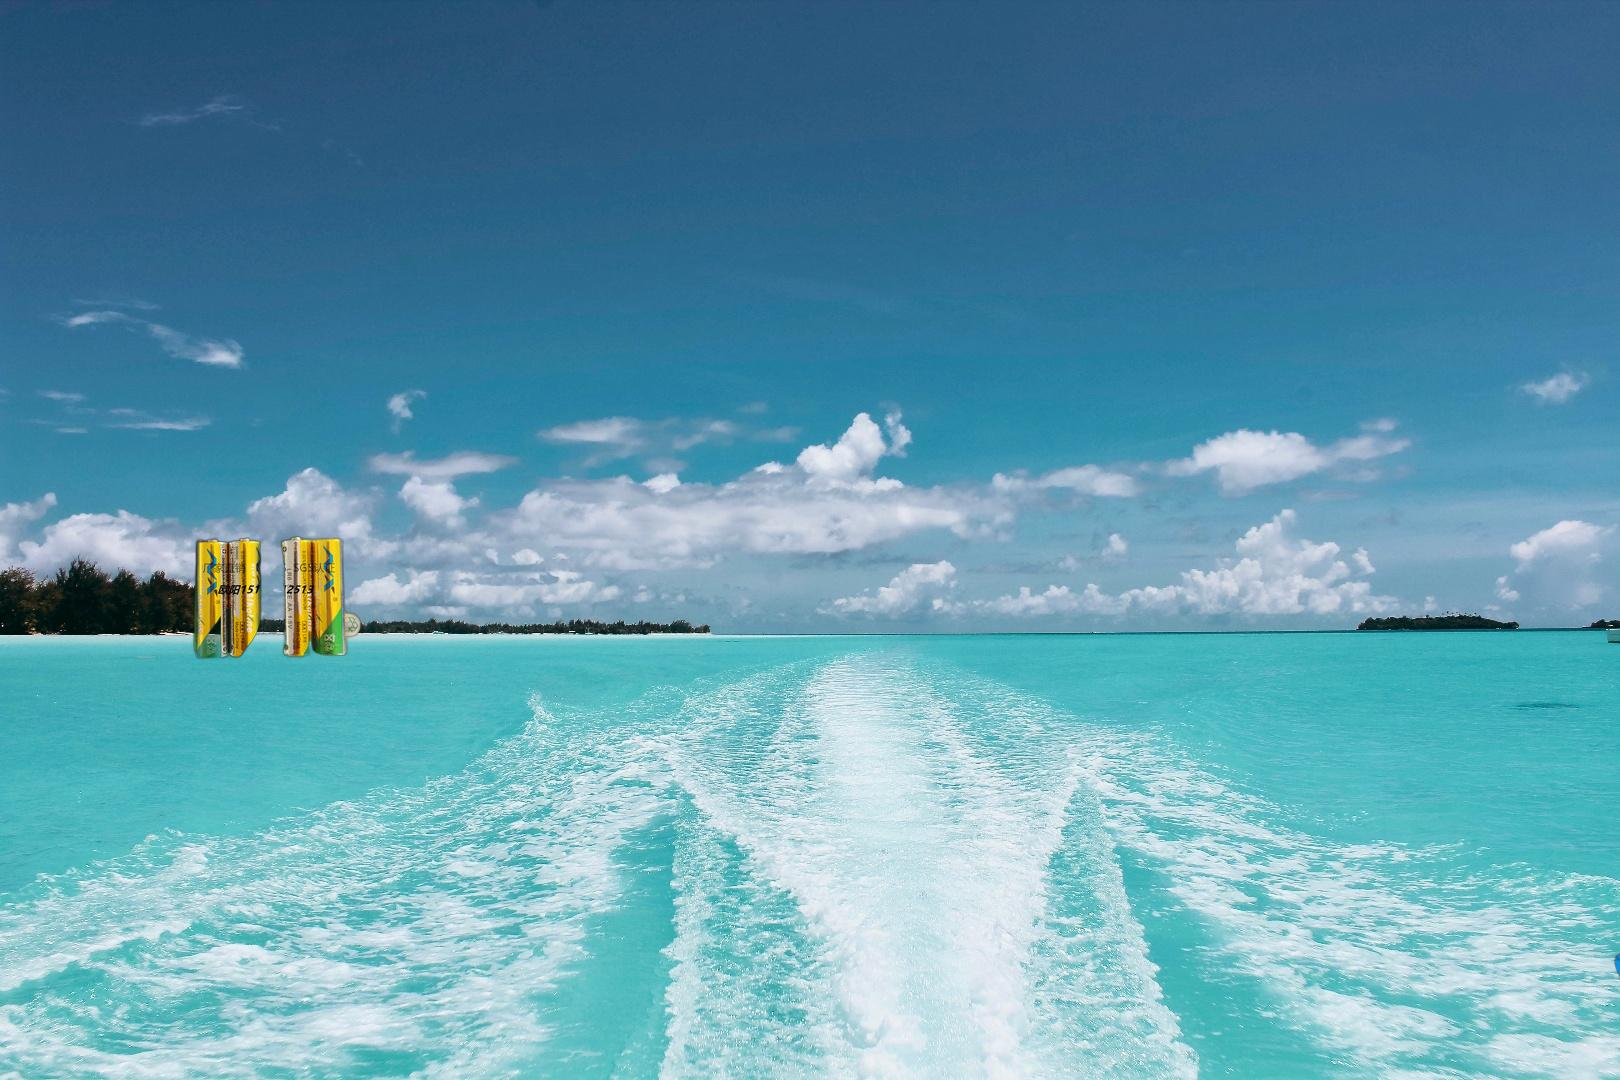battery: (163, 513, 370, 686)
plastic-bag: (1613, 921, 1620, 1080)
